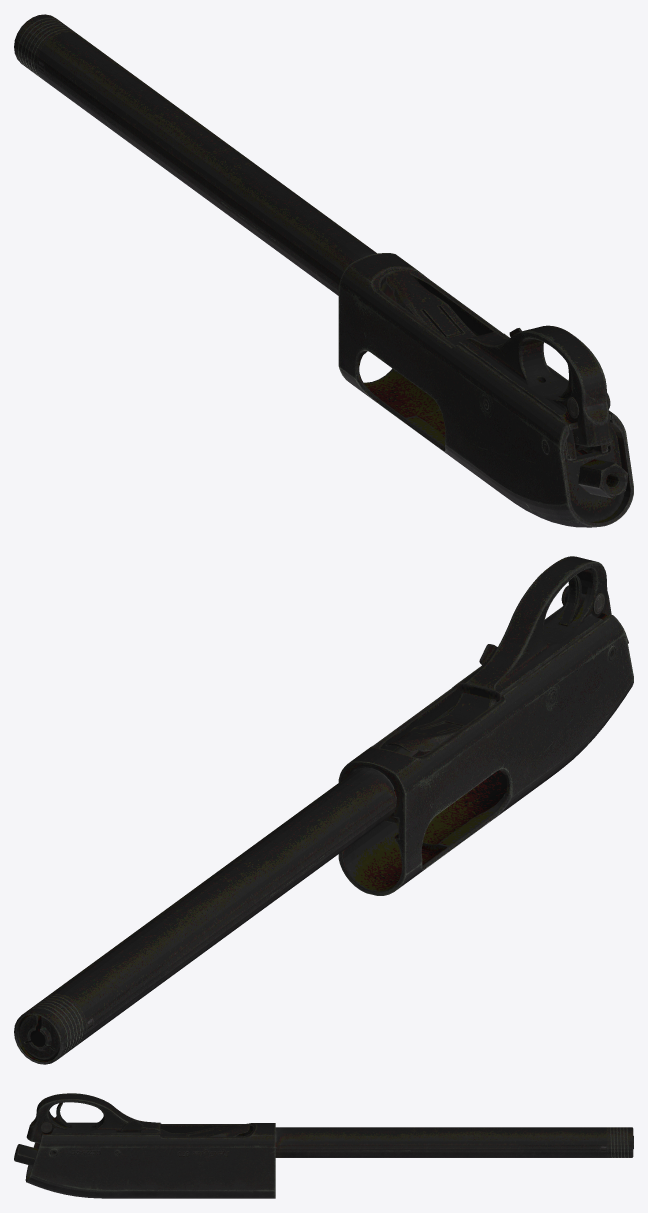
3 renders of one model, top to bottom at view 1: azimuth 30°, elevation 25°; view 2: azimuth 150°, elevation 25°; view 3: azimuth 270°, elevation 25°, orthographic. The views are drawn at different scales.
Visible parts, largest first — view 1: TW_5a7828548dc32e5a9c28b516_PZ_Import; view 2: TW_5a7828548dc32e5a9c28b516_PZ_Import; view 3: TW_5a7828548dc32e5a9c28b516_PZ_Import.
Boxes of the visible parts, x1,y1,x2,y2 form: TW_5a7828548dc32e5a9c28b516_PZ_Import: (14, 14, 633, 527); TW_5a7828548dc32e5a9c28b516_PZ_Import: (14, 556, 633, 1064); TW_5a7828548dc32e5a9c28b516_PZ_Import: (14, 1093, 633, 1198).
Size of the model in its own units: 0.0204 by 0.3083 by 0.0549.
1 material, 1 textured.
